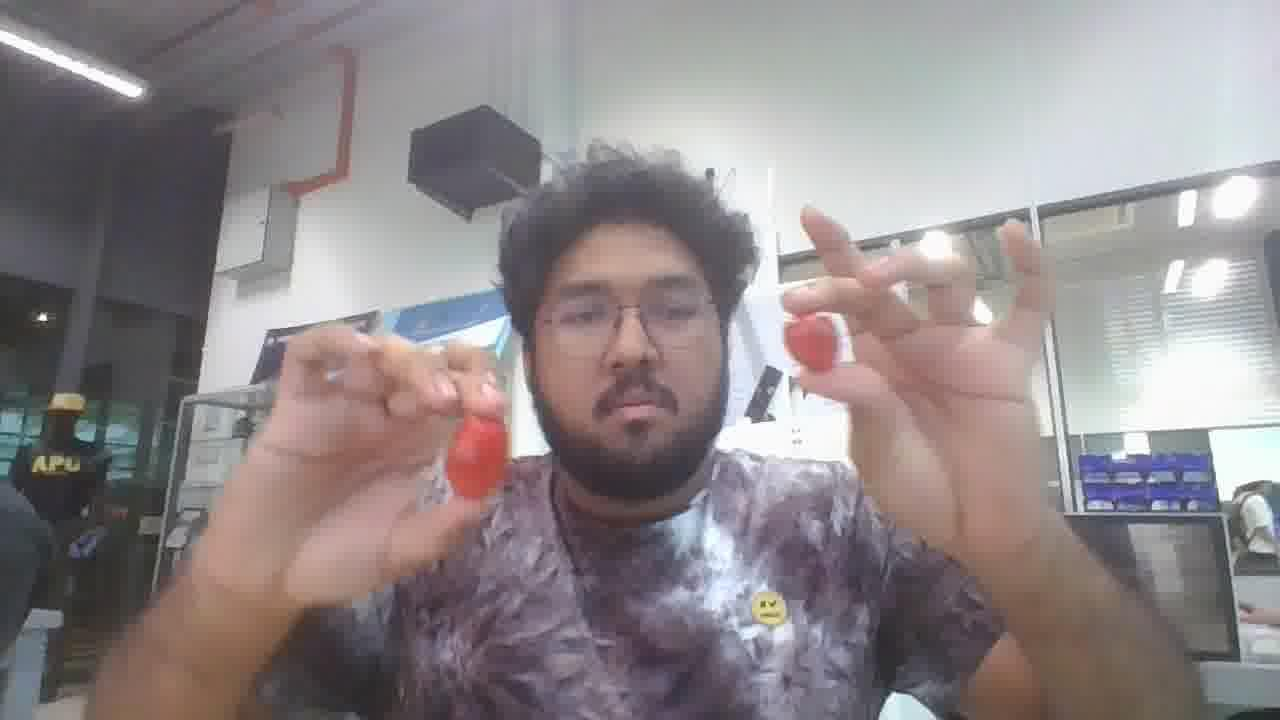red_cherry_tomato: (444, 415, 509, 499), (784, 314, 838, 371)
